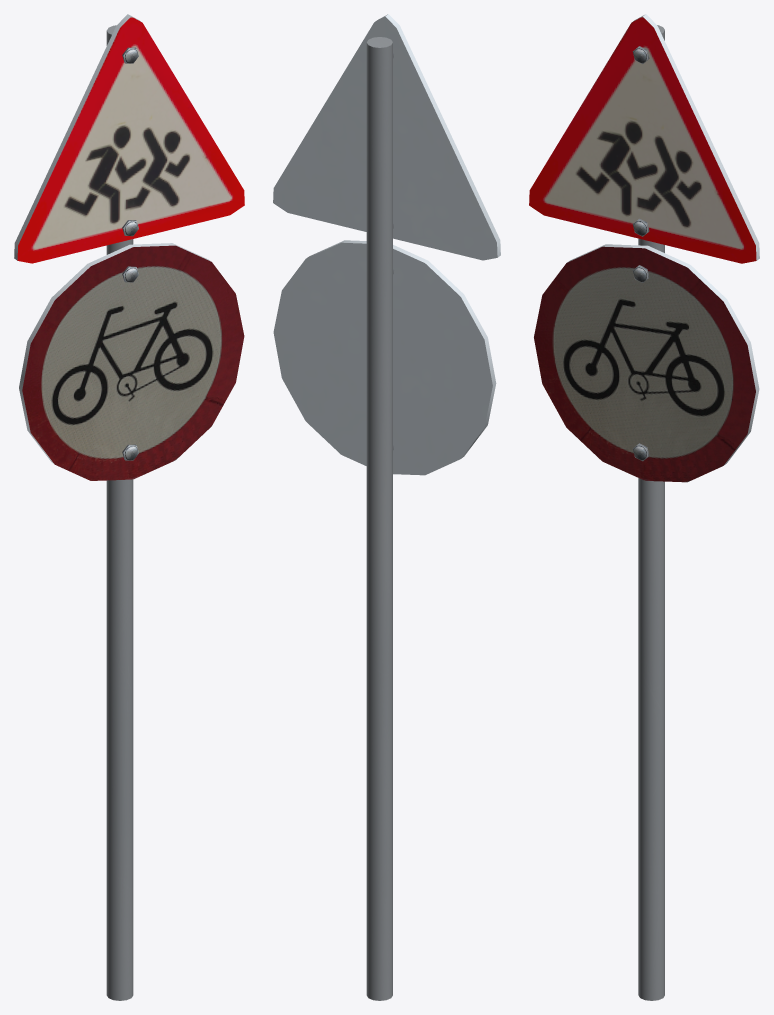
File: StreetSigns_17.fbx
3 renders of one model, left to right at view 1: azimuth 30°, elevation 25°; view 2: azimuth 150°, elevation 25°; view 3: azimuth 330°, elevation 25°, orthographic.
Parts seen in each view (by area): view 1: StreetSigns_17; view 2: StreetSigns_17; view 3: StreetSigns_17.
Boxes of the visible parts, box(x1,y1,x2,y2) form: StreetSigns_17: box(14, 14, 244, 1000); StreetSigns_17: box(273, 14, 500, 1000); StreetSigns_17: box(529, 14, 759, 1000).
Bounding box in the file's own units: 0.9863 × 4.09 × 0.1408.
